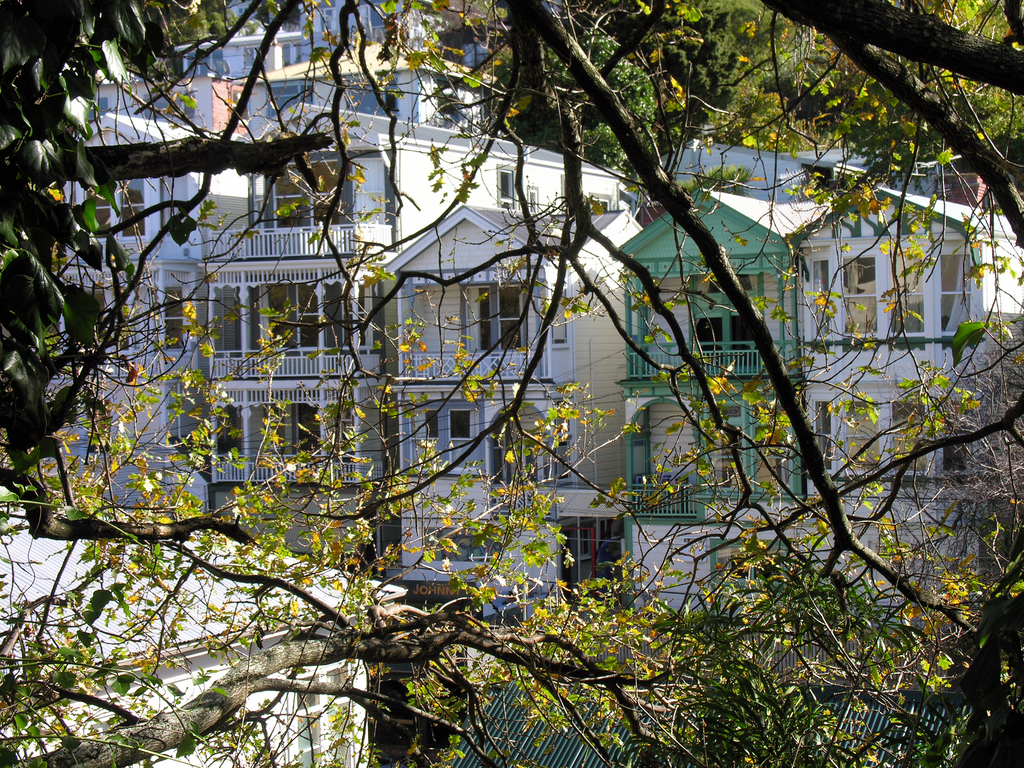Tree: (12, 0, 1003, 768), (444, 0, 1023, 187)
